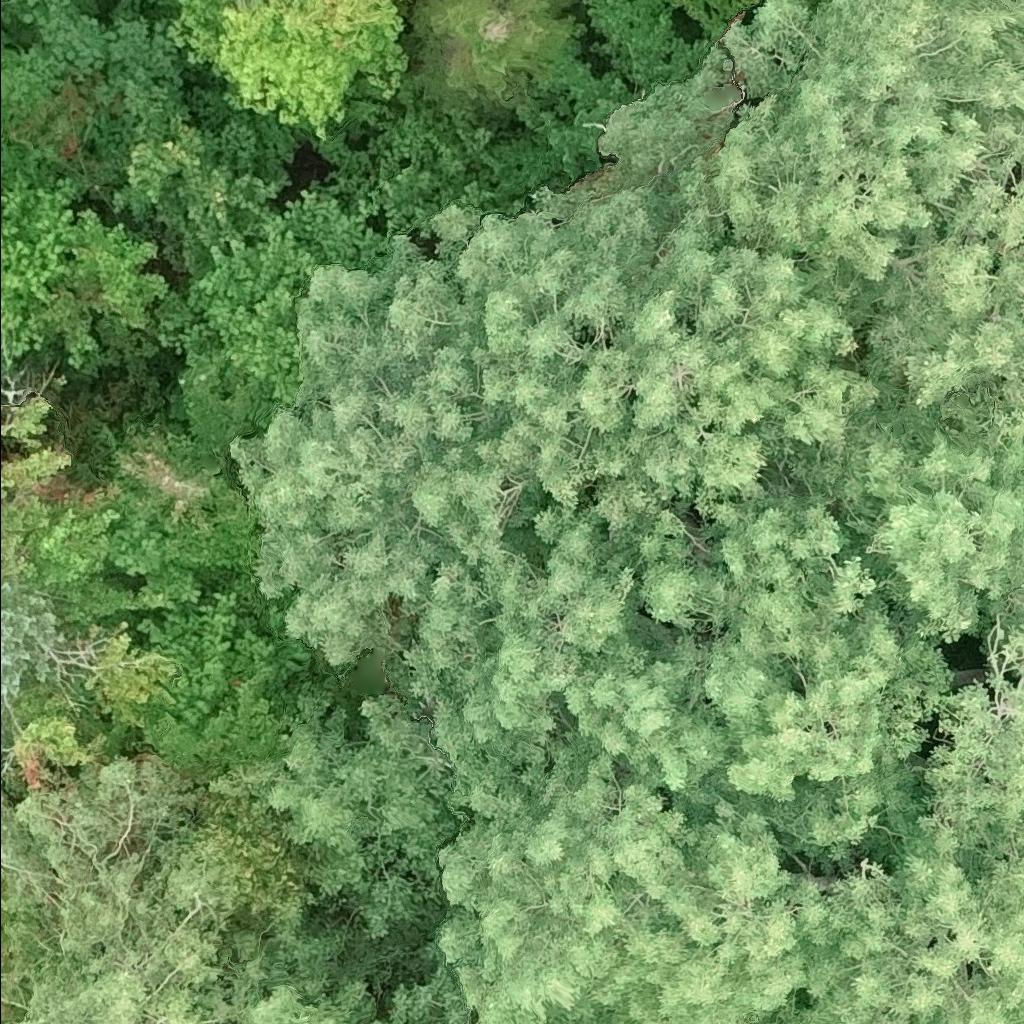crown: (227, 179, 896, 883), (562, 396, 1023, 889), (599, 0, 1023, 436), (381, 746, 839, 1023), (0, 765, 361, 1023), (111, 115, 397, 410), (320, 76, 575, 259), (96, 376, 289, 595), (796, 851, 1023, 1023), (173, 0, 405, 138), (924, 637, 1023, 879), (414, 0, 584, 122), (518, 55, 642, 191), (590, 0, 762, 97), (0, 168, 86, 352), (0, 397, 66, 593), (0, 585, 65, 708), (0, 881, 33, 1020)
